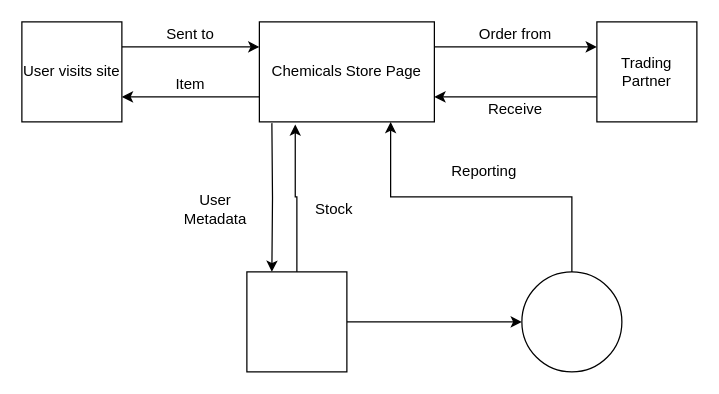
Some shapes in this 719 by 394 pixel diagram are drawn without their labels. The shapes that lost their labels are listed below. From the top down, each one's box as (x1, y1, x2, y2) in pixels, then its label:
(246, 271, 347, 372): Store DB
(521, 271, 622, 372): Metric Processing
